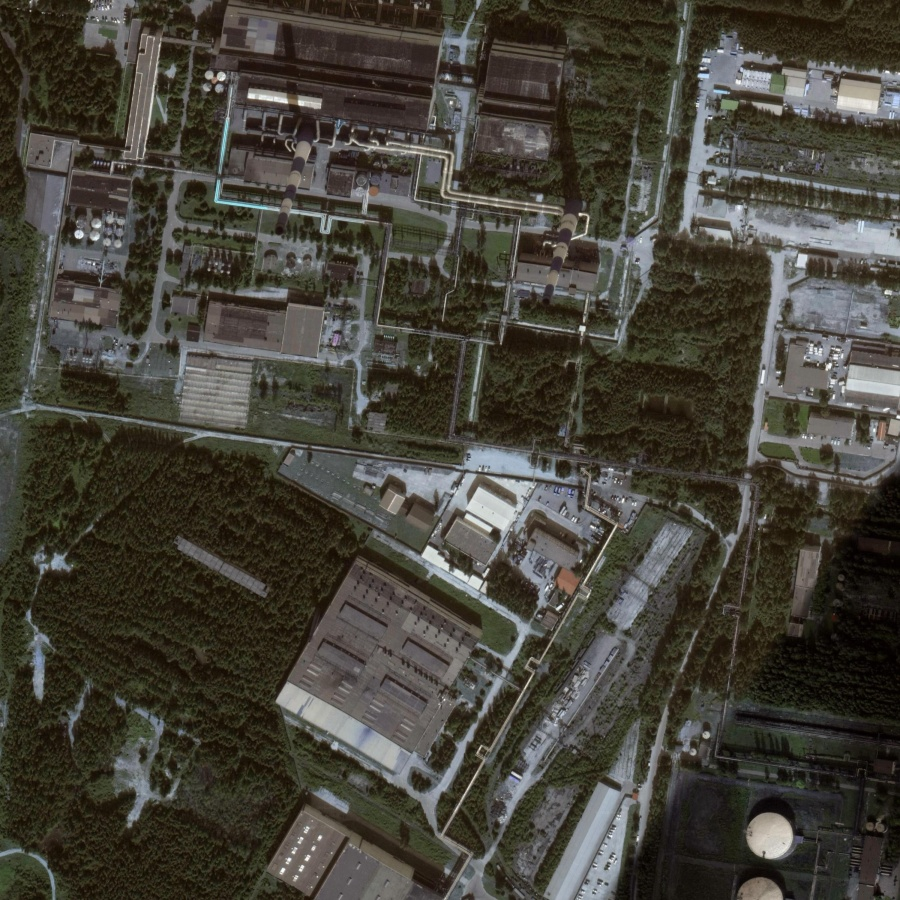PowerPlant: (228, 2, 586, 322)
